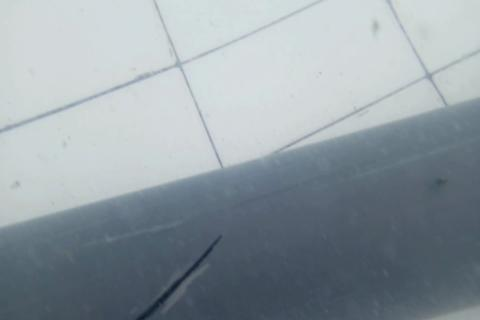keretakan: (136, 231, 224, 320)
